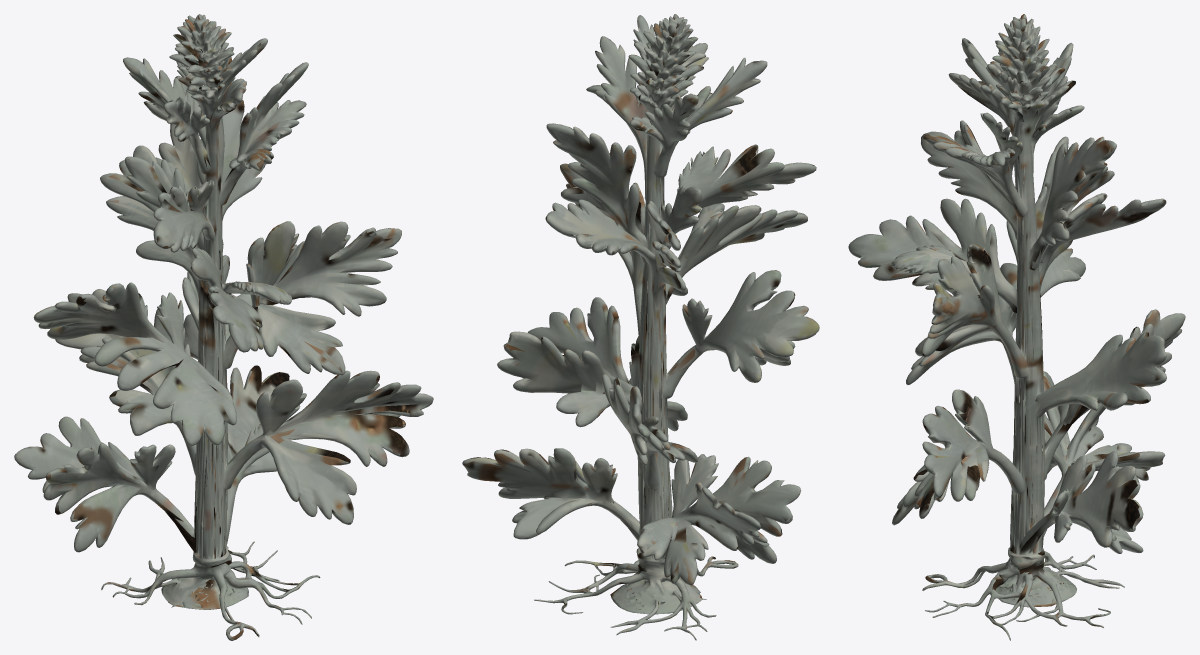
The model's file is aicao.glb.
3 renders of one model, left to right at view 1: azimuth 30°, elevation 25°; view 2: azimuth 150°, elevation 25°; view 3: azimuth 270°, elevation 25°, orthographic. The views are drawn at different scales.
Visible parts, largest first — view 1: node_0; view 2: node_0; view 3: node_0.
Boxes of the visible parts, bbox=[...] form: node_0: bbox=[14, 14, 433, 640]; node_0: bbox=[462, 14, 819, 640]; node_0: bbox=[848, 14, 1185, 640].
Size of the model in its own units: 0.6949 by 1.13 by 0.6038.
1 material, 1 textured.
